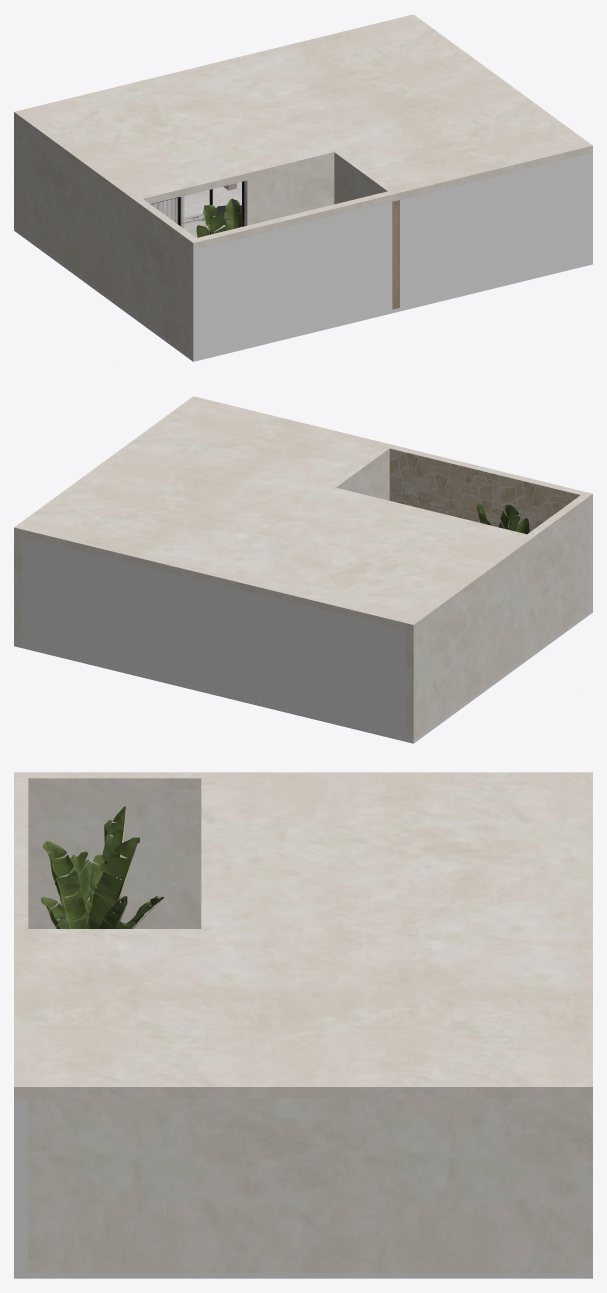
Rendered from veyra-room.glb.
3 renders of one model, top to bottom at view 1: azimuth 30°, elevation 25°; view 2: azimuth 150°, elevation 25°; view 3: azimuth 270°, elevation 25°, orthographic. The views are drawn at different scales.
Visible parts, largest first — view 1: Geom3D_ (×7), Geom3D (×6); view 2: Geom3D_ (×7), Geom3D (×3); view 3: Geom3D_ (×4), Geom3D (×5).
Part boxes in pixels (x1,y1,x2,y2): Geom3D_ (×7): (14, 14, 592, 361); Geom3D (×6): (159, 159, 399, 309); Geom3D_ (×7): (14, 396, 592, 743); Geom3D (×3): (343, 448, 580, 531); Geom3D_ (×4): (14, 772, 592, 1278); Geom3D (×5): (28, 790, 201, 928).
Bounding box in the file's own units: 12.75 × 4.32 × 9.18.
63 materials, 45 textured.
